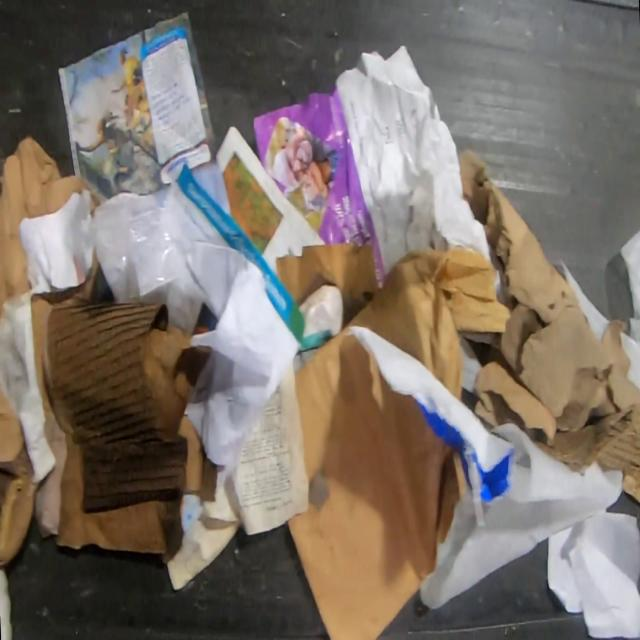cardboard: (459, 148, 640, 476), (290, 327, 466, 640), (35, 297, 220, 564), (343, 249, 510, 402), (0, 135, 102, 311), (31, 244, 100, 408), (276, 243, 379, 327), (0, 382, 38, 570), (622, 471, 639, 501)
soft_plastic: (92, 191, 206, 333)
